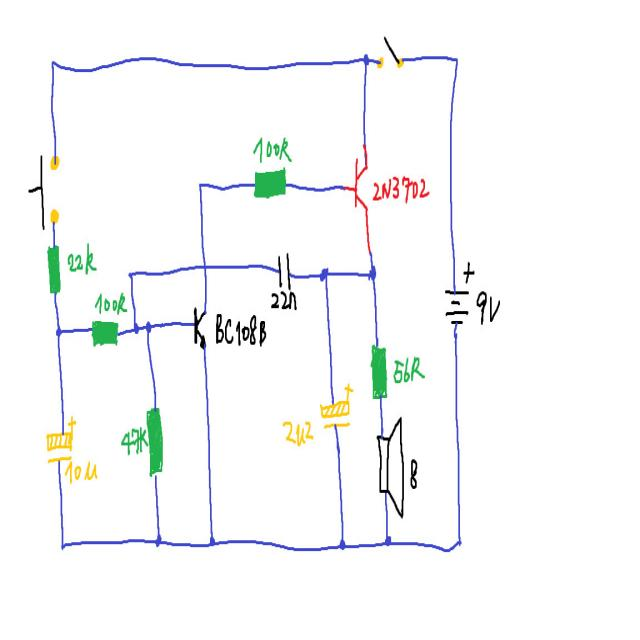capacitor: (318, 380, 354, 436), (44, 413, 78, 465), (275, 250, 292, 291)
crossover: (199, 258, 209, 272)
junction: (318, 264, 329, 284), (450, 50, 460, 70), (366, 264, 377, 282), (361, 50, 370, 68), (382, 532, 392, 548), (336, 535, 346, 551), (48, 55, 58, 71), (454, 533, 463, 550), (144, 317, 152, 334), (207, 533, 216, 548), (154, 532, 162, 548), (132, 320, 140, 336), (58, 537, 66, 552), (54, 324, 62, 338), (126, 268, 135, 280), (196, 178, 203, 192)
resistor: (144, 402, 164, 478), (367, 340, 390, 402), (40, 242, 64, 297), (251, 164, 287, 200), (88, 315, 120, 348)
source: (438, 255, 476, 329)
switch: (26, 149, 60, 233), (374, 32, 404, 80)
text: (214, 311, 265, 348), (371, 173, 430, 204), (250, 132, 292, 164), (280, 416, 315, 450), (474, 287, 500, 328), (66, 241, 96, 275), (392, 355, 426, 384), (63, 458, 98, 484), (120, 423, 147, 456), (93, 289, 127, 315), (270, 289, 298, 311), (409, 456, 418, 489)
transistor: (346, 145, 372, 215), (191, 304, 208, 349)
